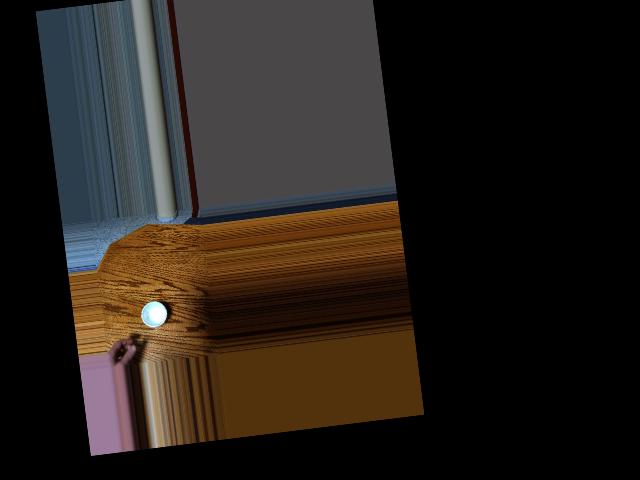cotage: (135, 298, 168, 334)
